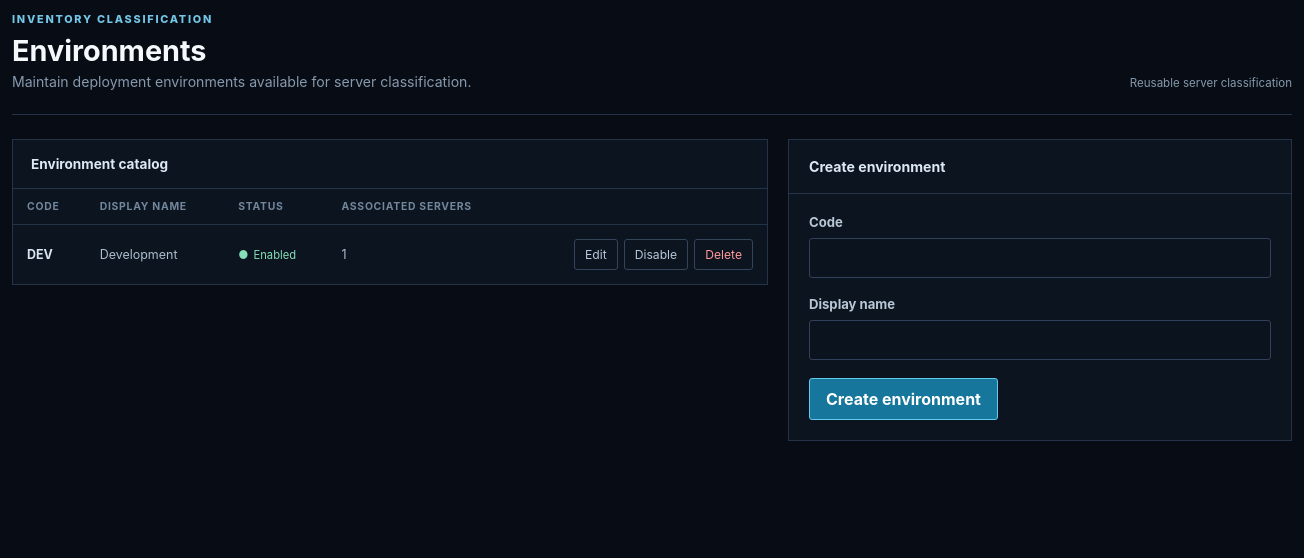
inventory classification administration › creates, updates and deletes environments through the existing API
Click the button "Edit": (596, 254) [574,239,618,270]
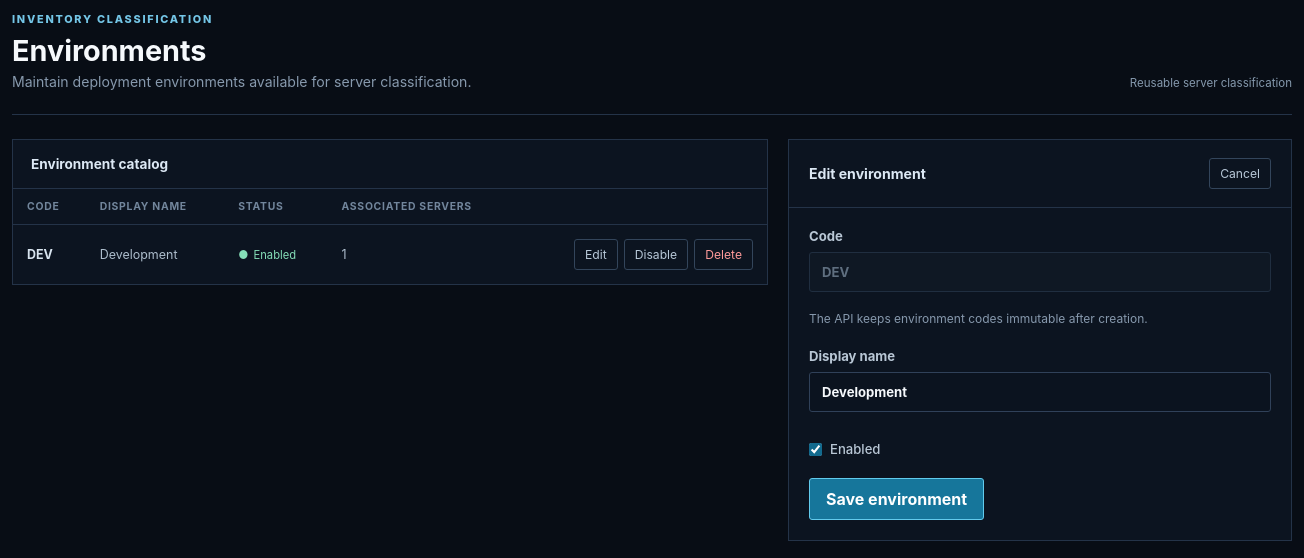
Check: the field labelled "Code" is disabled, box [809,252,1271,292]
Replace the text in the field labelled "Display name" with "Developer Systems": (1040, 392) [809,372,1271,412]
Click the checkbox labelled "Enabled": (816, 449) [809,442,822,456]
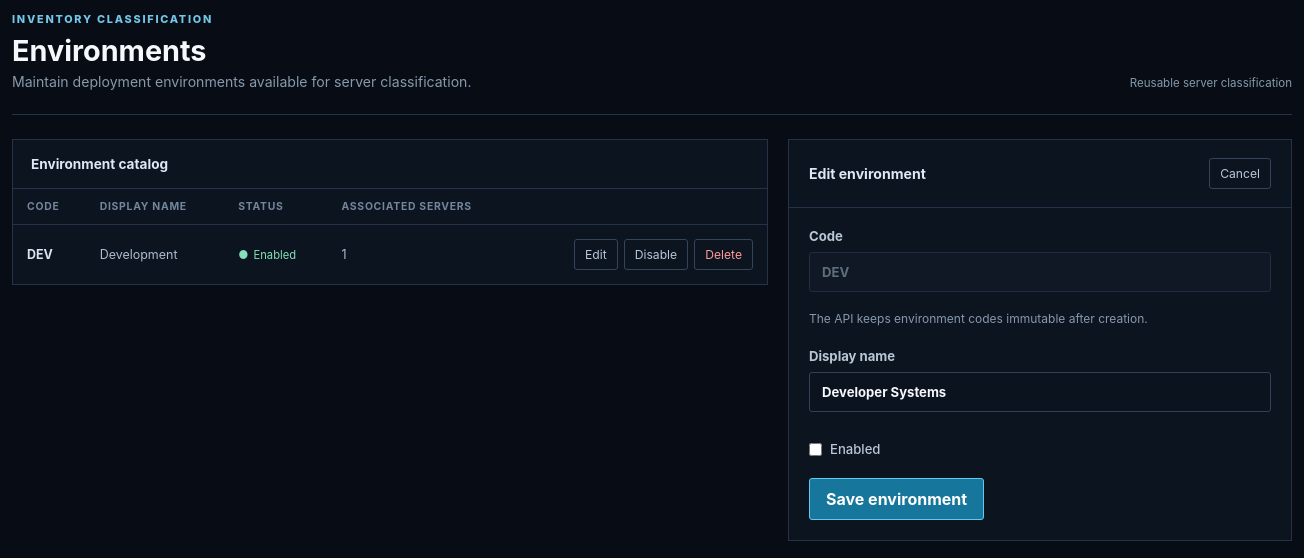
Click the button "Save environment": (897, 499) [809,478,984,520]
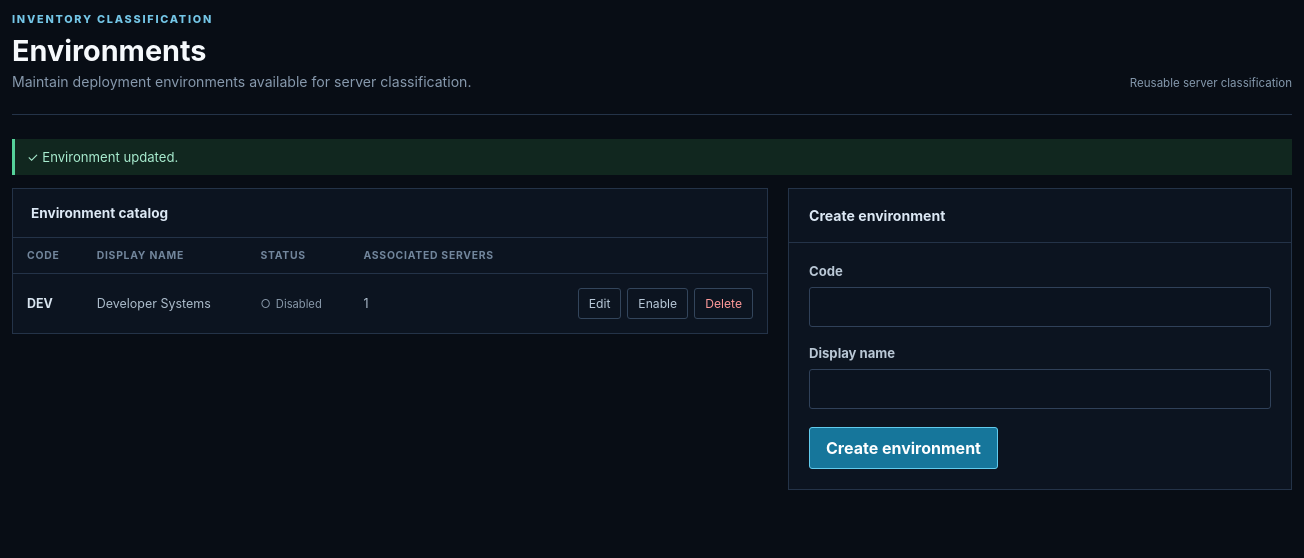
Check: the message shows "Environment updated.", box [42,149,178,165]
In the field labelled "Code": (1040, 307) [809,287,1271,327], type "lab"
In the field labelled "Display name": (1040, 389) [809,369,1271,409], type "Laboratory"
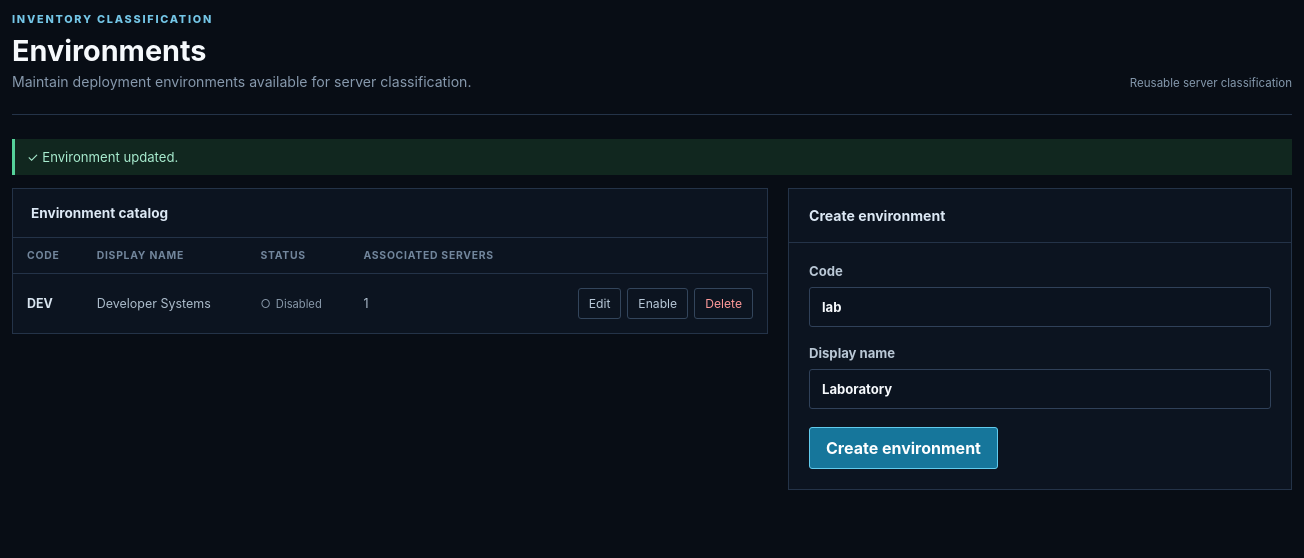
Click the button "Create environment": (904, 448) [809,427,998,469]
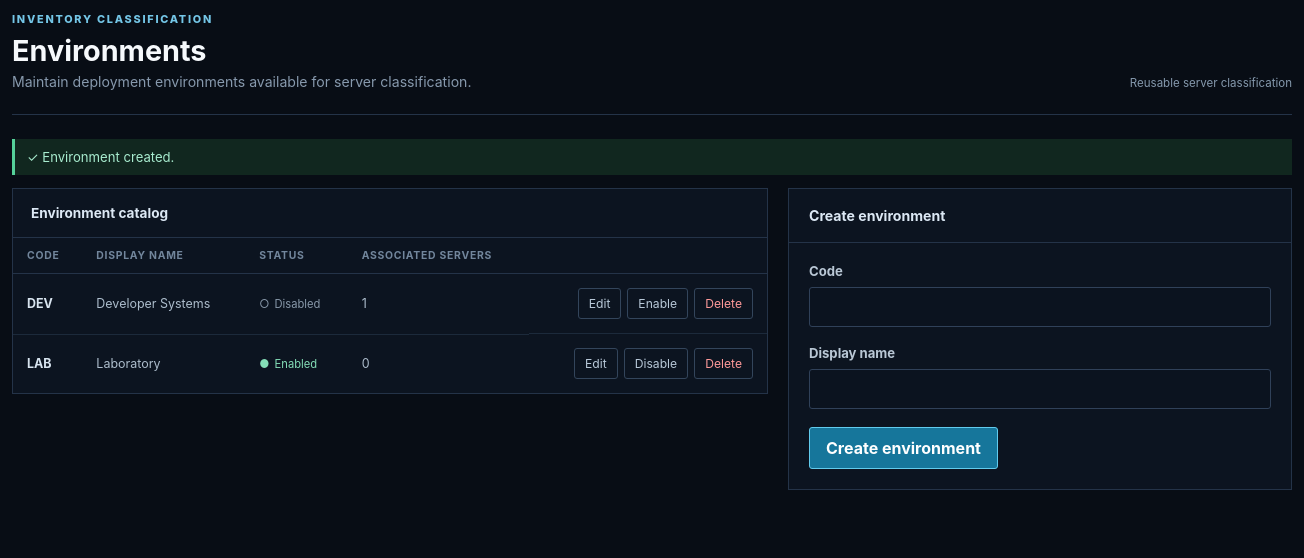
Click the button "Delete" in the row of "Laboratory": (724, 364) [694,348,753,379]
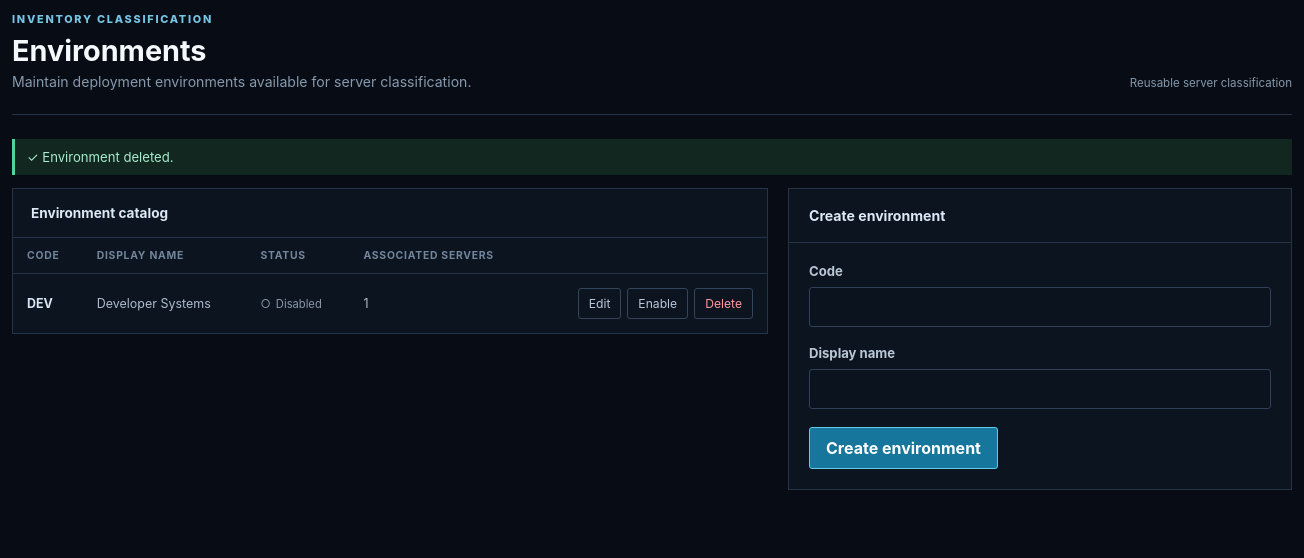
Check: the text "Laboratory" is gone
